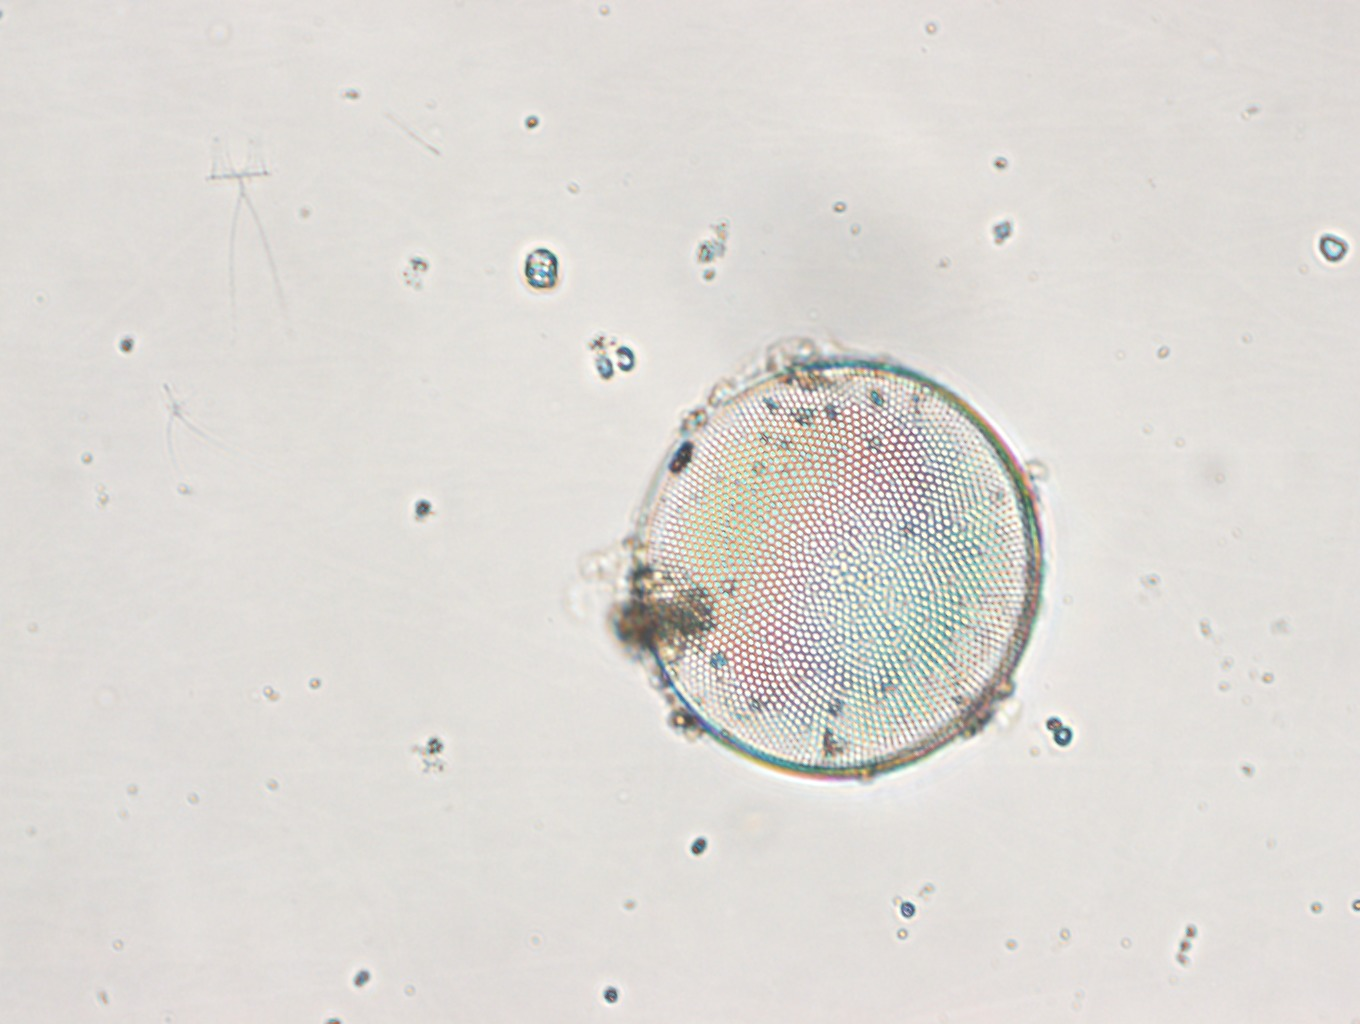chaetoceros: (201, 136, 290, 346)
coscinodiscus: (624, 347, 1049, 790)
